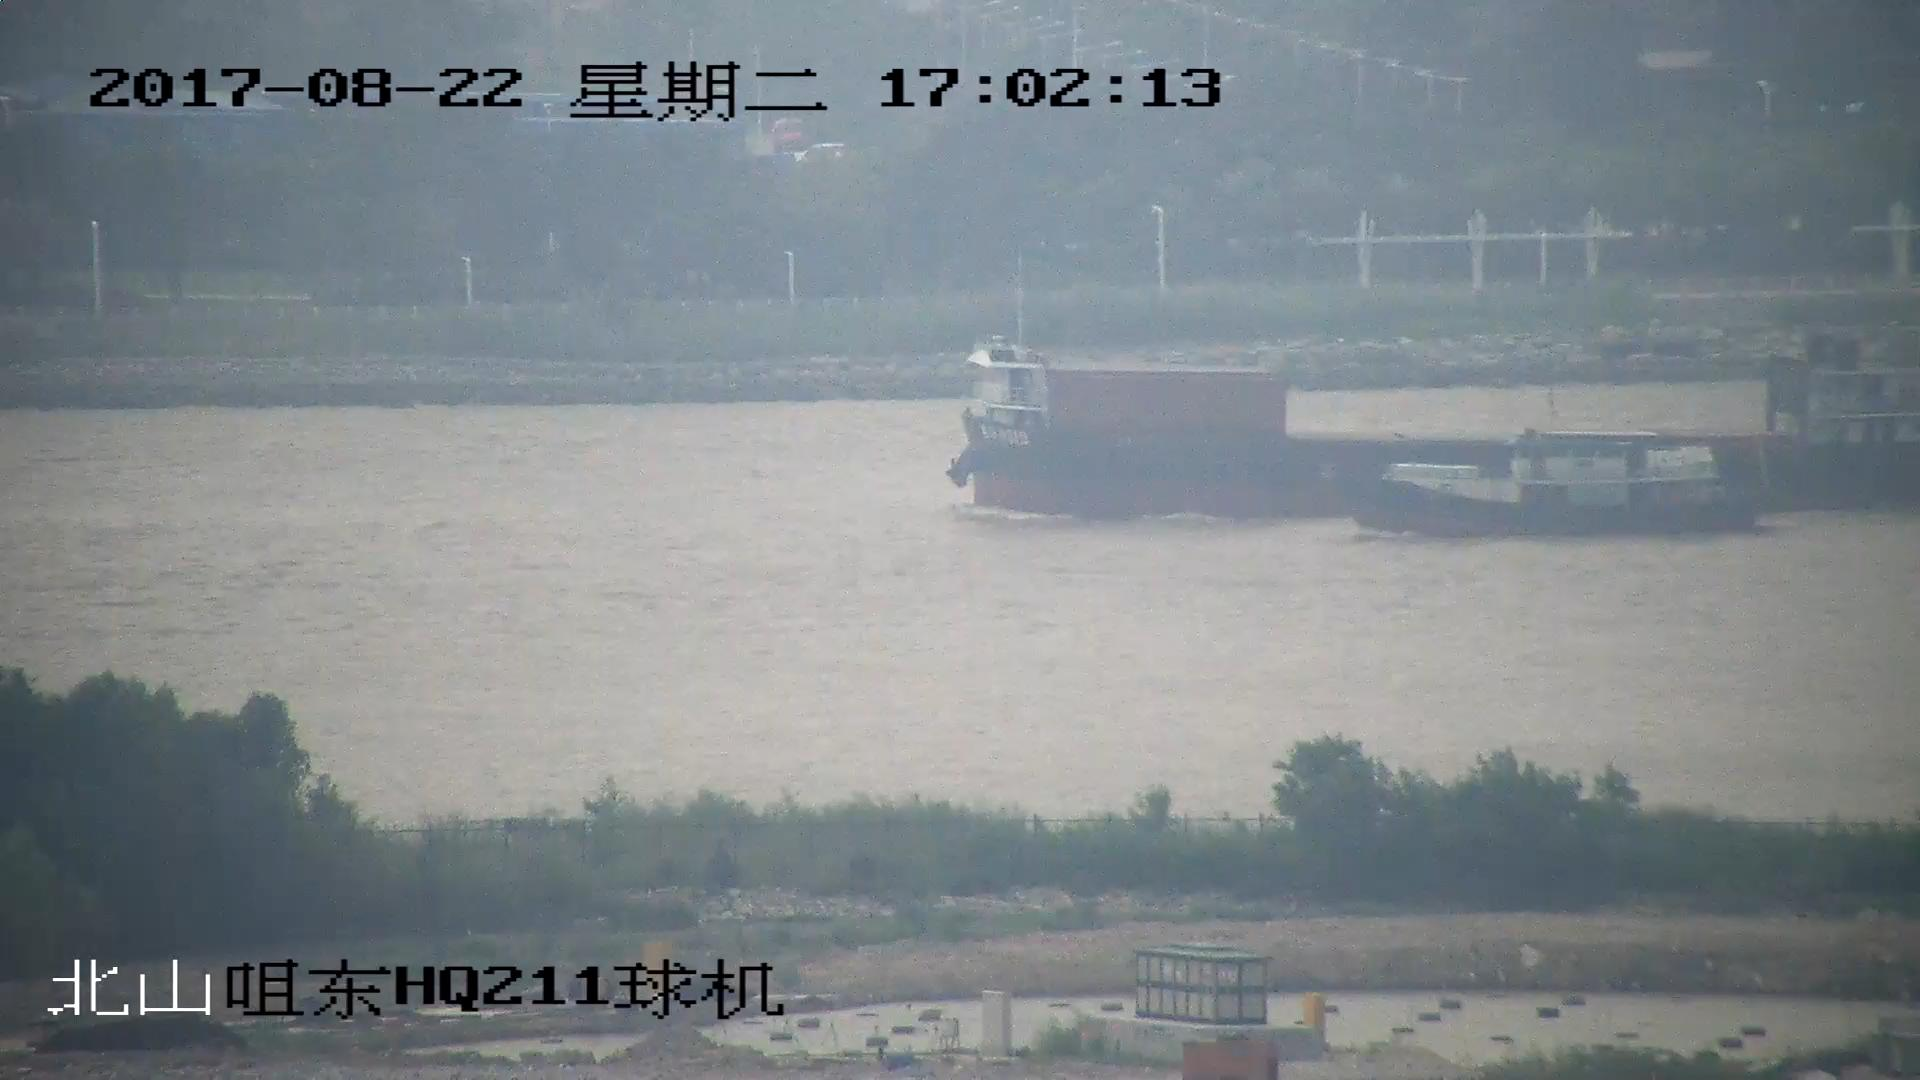fishing boat: (1355, 437, 1761, 542)
general cargo ship: (948, 318, 1920, 513)
